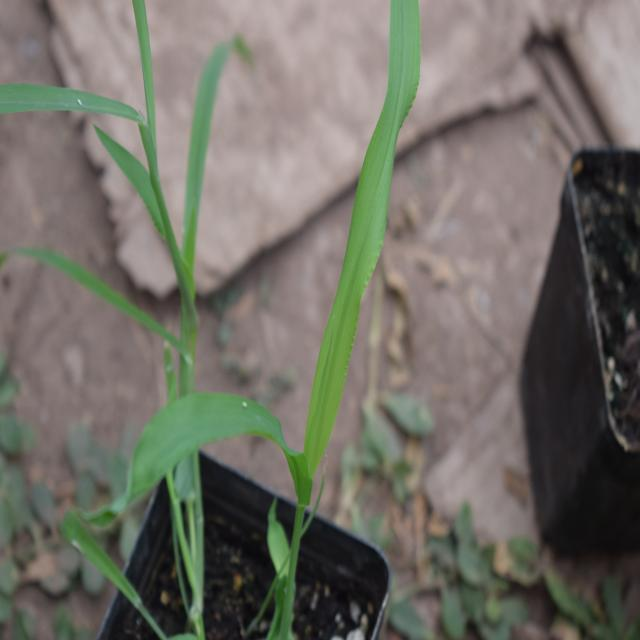crabgrass: (145, 0, 448, 516)
